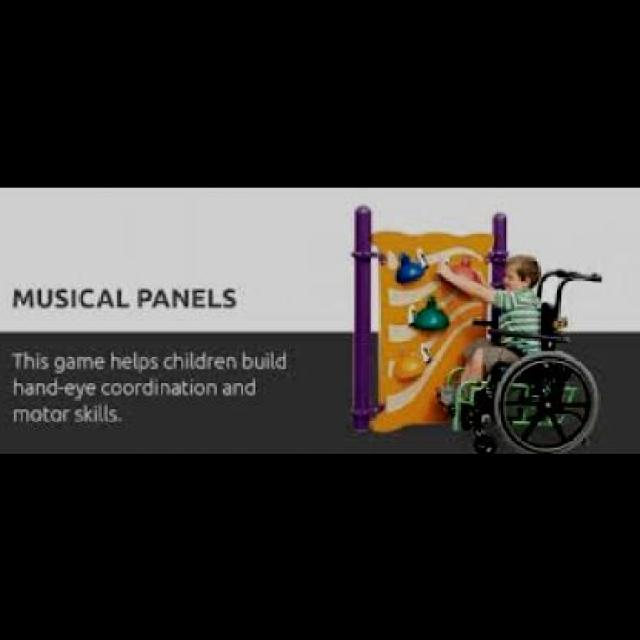wheelchairs: (447, 264, 613, 460)
